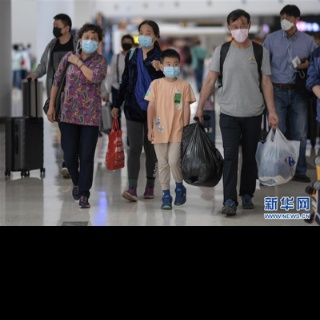with_mask: (80, 32, 99, 54), (231, 20, 249, 43), (138, 27, 154, 48), (163, 60, 180, 79), (280, 13, 294, 31), (52, 20, 65, 38), (121, 40, 133, 52)
